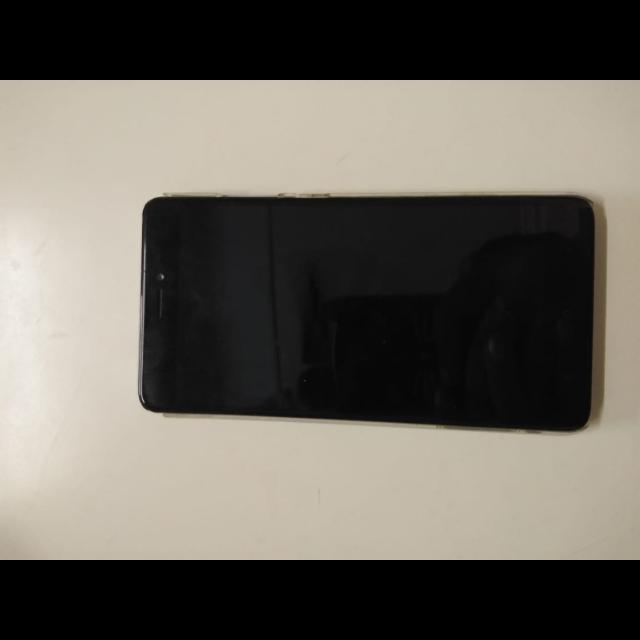Smartphone: (123, 173, 612, 445)
